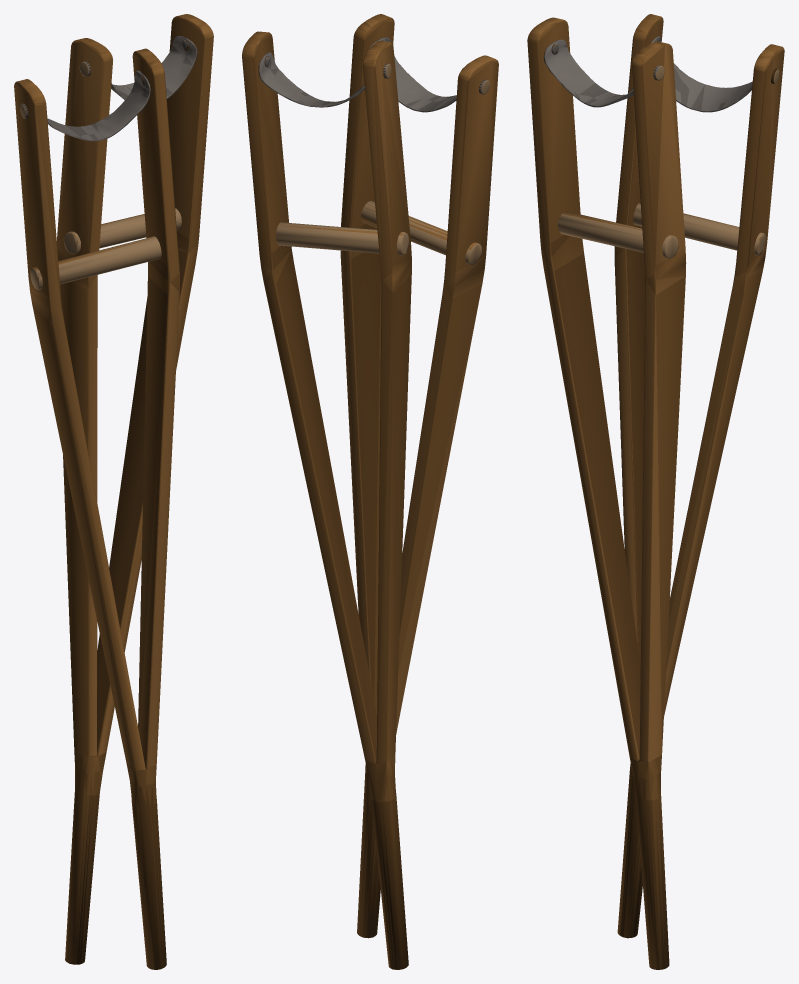
Rendered from vintage-crutches.glb.
3 renders of one model, left to right at view 1: azimuth 30°, elevation 25°; view 2: azimuth 150°, elevation 25°; view 3: azimuth 330°, elevation 25°, orthographic.
Visible parts, largest first — view 1: vintage-crutches; view 2: vintage-crutches; view 3: vintage-crutches.
Part boxes in pixels (x1,y1,x2,y2): vintage-crutches: (14, 14, 213, 969); vintage-crutches: (242, 14, 498, 969); vintage-crutches: (527, 14, 784, 969).
Size of the model in its own units: 0.3839 by 1.6 by 0.2036.
